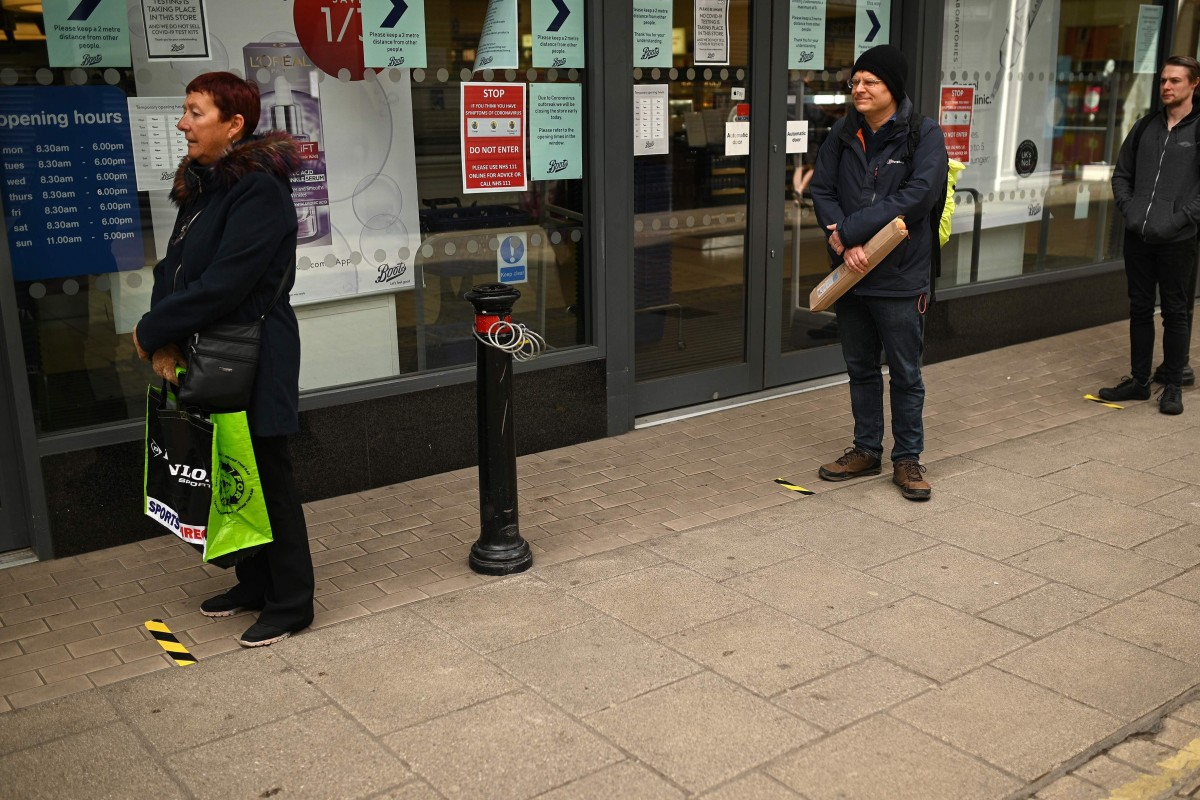Good: (126, 44, 962, 649), (810, 42, 1200, 508)
